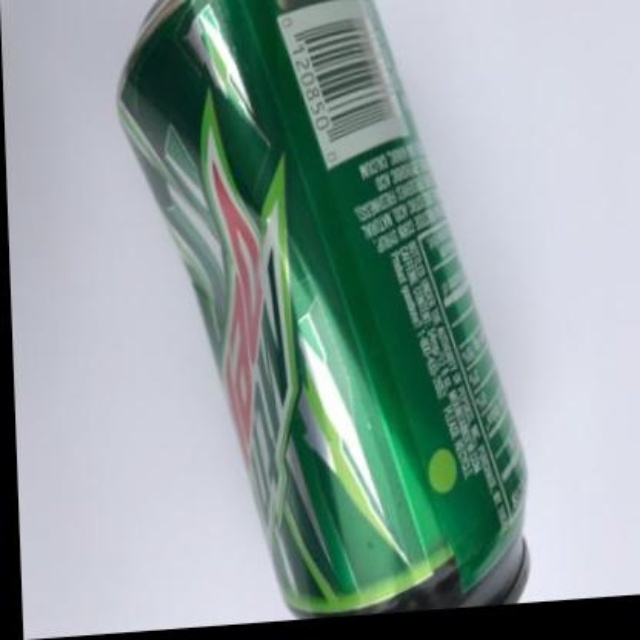trash: (118, 0, 526, 612)
